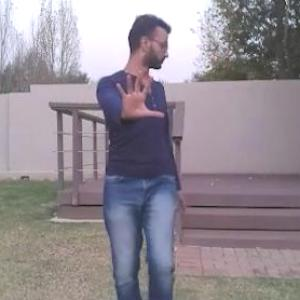follow_hand: (111, 66, 166, 122)
